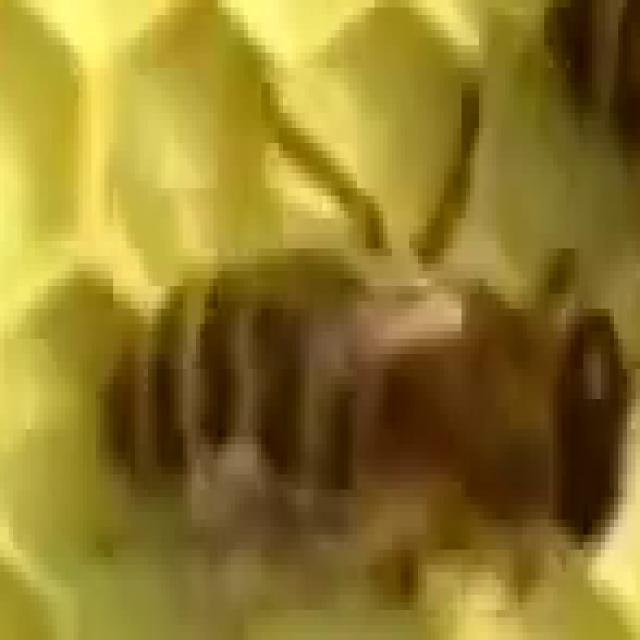honeybee: (70, 98, 636, 640), (531, 1, 640, 164)
